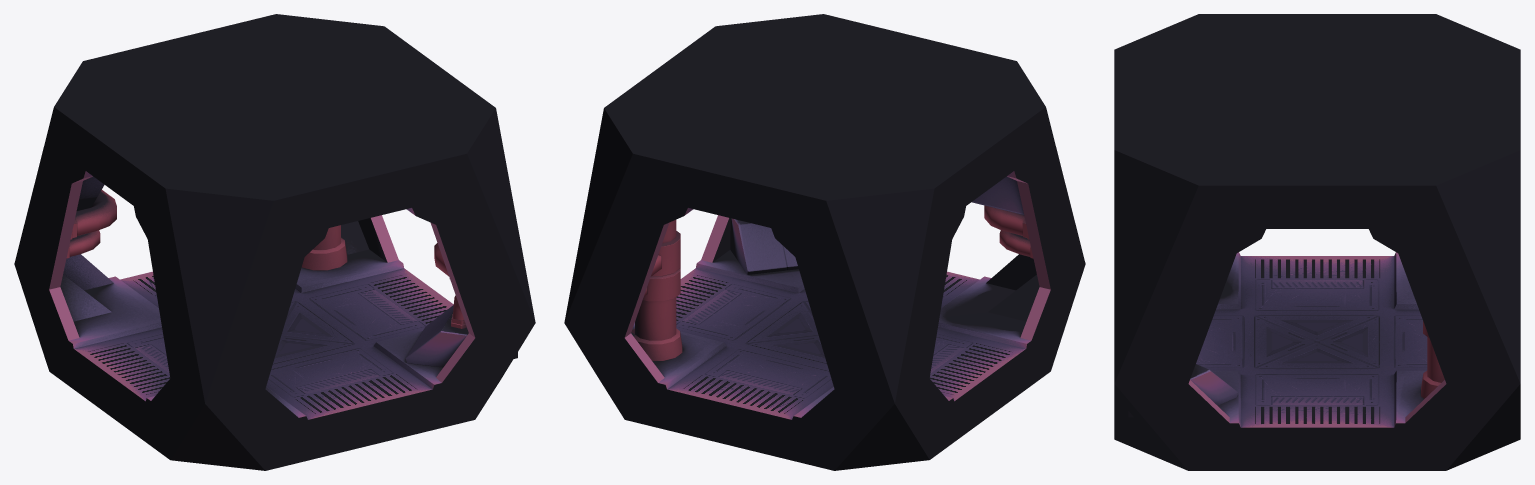
Rendered from mod_Cross.glb.
The picture shows the model from 3 angles, left to right: view 1: azimuth 30°, elevation 25°; view 2: azimuth 150°, elevation 25°; view 3: azimuth 270°, elevation 25°; orthographic projection. The views are drawn at different scales.
Visible parts, largest first — view 1: Plane.005; view 2: Plane.005; view 3: Plane.005.
Boxes of the visible parts, bbox=[...] form: Plane.005: bbox=[14, 14, 535, 470]; Plane.005: bbox=[564, 14, 1085, 470]; Plane.005: bbox=[1114, 14, 1520, 470].
Bounding box in the file's own units: 5 × 3.88 × 5.
Materials: 2 (2 with a texture image).
